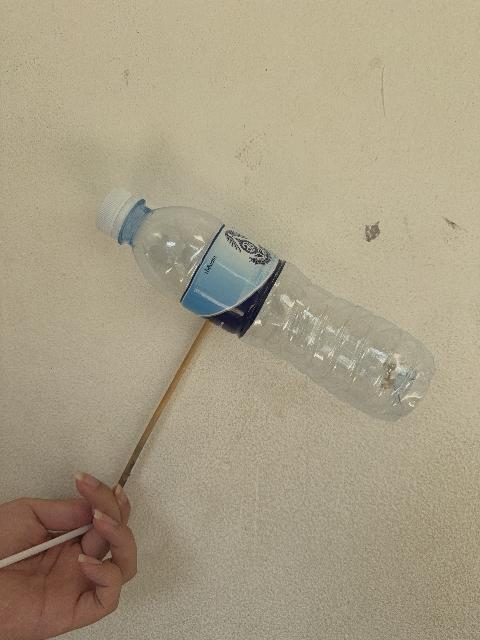bottle: (97, 189, 434, 421)
